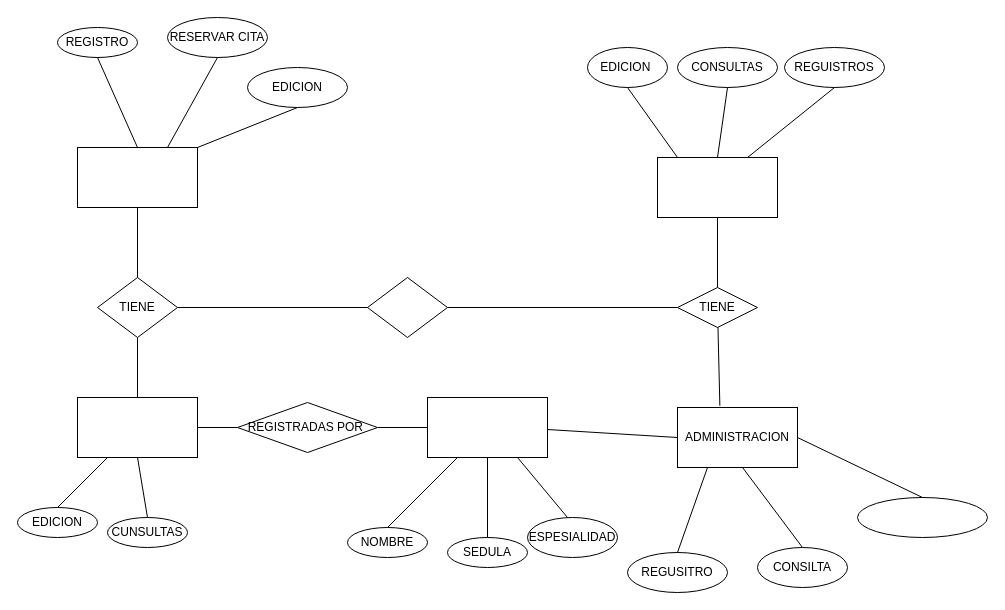
Image size: 1005x610. Some labels were removed from this diagram. The shapes that lost their labels are listed below. From the top down, each one's centre as x and y in pixels, then its label:
point (137, 177): PASIENTES
point (717, 187): SALAS
point (407, 307): HOSPITAL
point (137, 427): CONSULTAS (SITAS)
point (487, 427): DOCTORES
point (922, 517): BAJA DE DATOS
